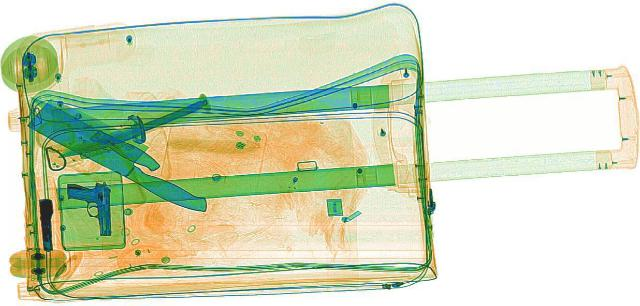Gun: (64, 181, 114, 234), (37, 198, 55, 249)
Knife: (0, 97, 252, 213), (22, 93, 168, 169), (50, 99, 218, 159)
